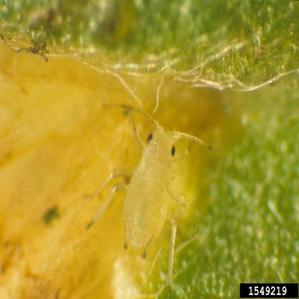Green peach aphid: (69, 80, 221, 283)
